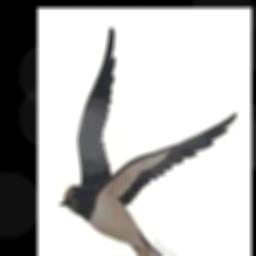Swallow: (58, 26, 237, 256)
